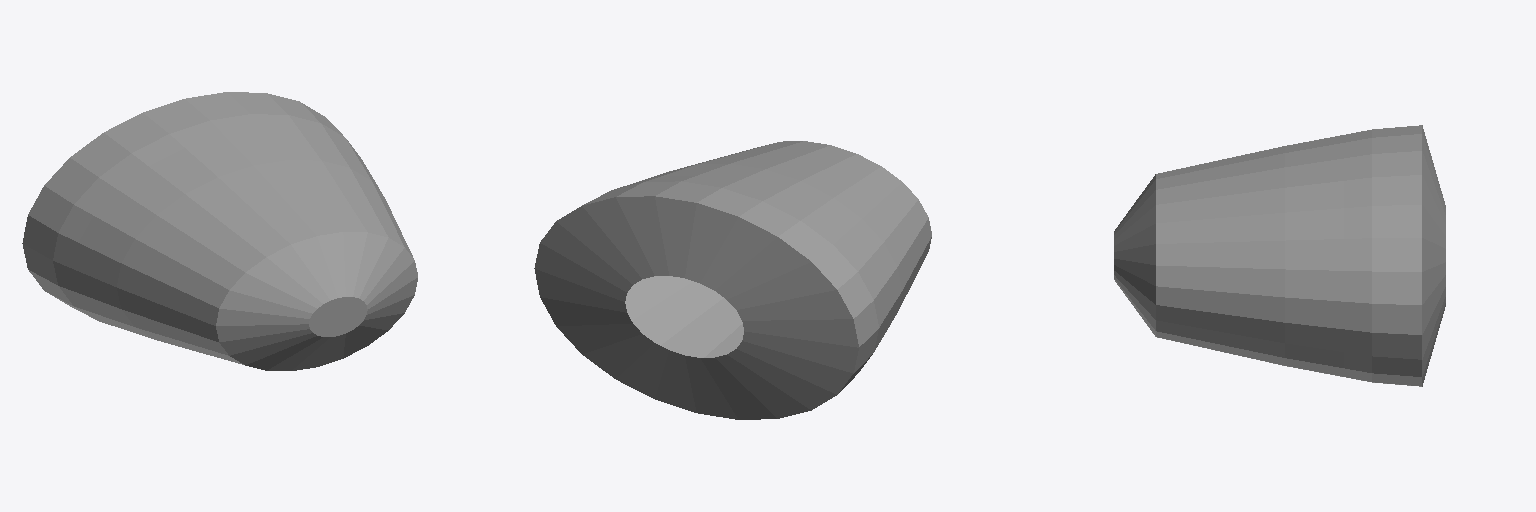
File: hip.obj
The picture shows the model from 3 angles: view 1: azimuth 30°, elevation 25°; view 2: azimuth 150°, elevation 25°; view 3: azimuth 270°, elevation 25°; orthographic projection.
Visible parts, largest first — view 1: Sphere; view 2: Sphere; view 3: Sphere.
Part boxes in pixels (bbox=[...]): Sphere: bbox=[22, 92, 417, 370]; Sphere: bbox=[534, 141, 931, 419]; Sphere: bbox=[1114, 125, 1445, 386].
Size of the model in its own units: 13.29 by 8.23 by 11.79.